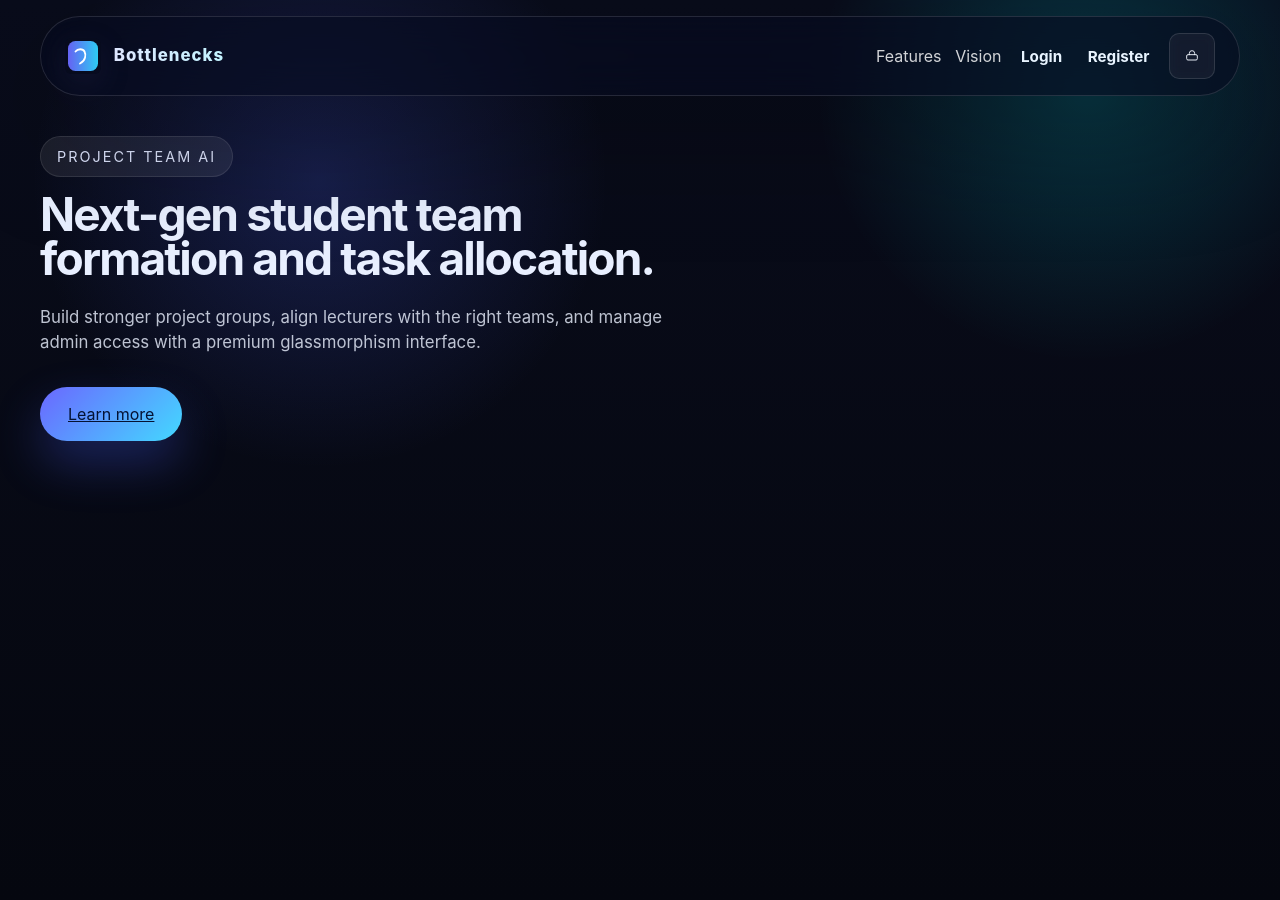
Scenario: App – admin login › opens admin login modal
The width and height of the screenshot is (1280, 900).
Click the button named "Admin login" at (1192, 56), box 1169,33 -> 1215,79
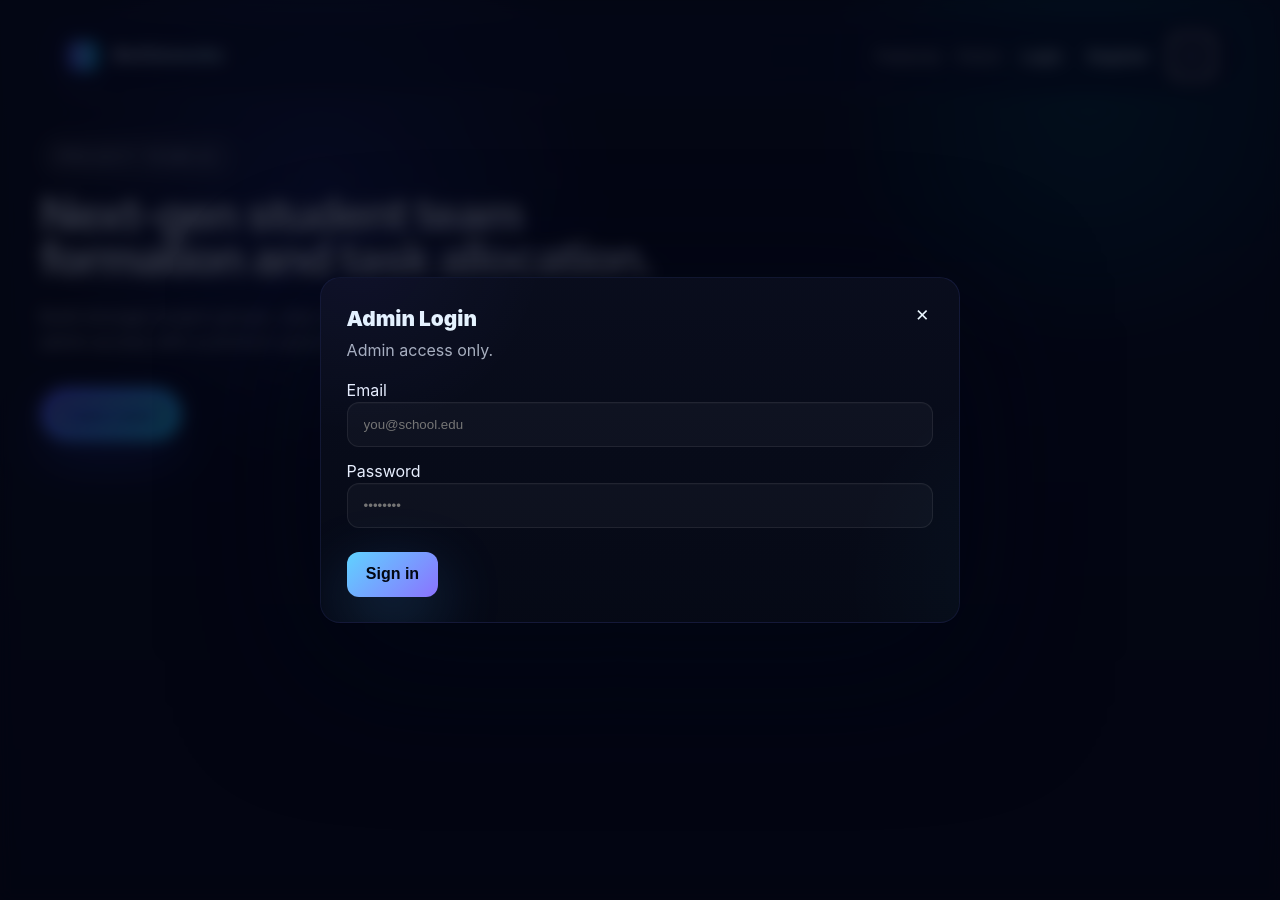
Now the dialog is shown, box 320,277 -> 960,623
Now the heading "Admin Login" is shown, box 347,306 -> 477,331
Now the text "Admin access only." is shown, box 347,340 -> 493,360
